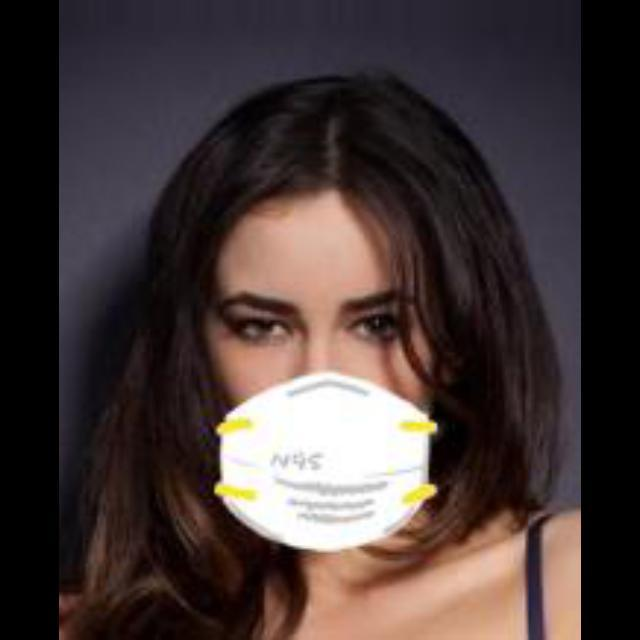suspicion: (184, 109, 454, 569)
